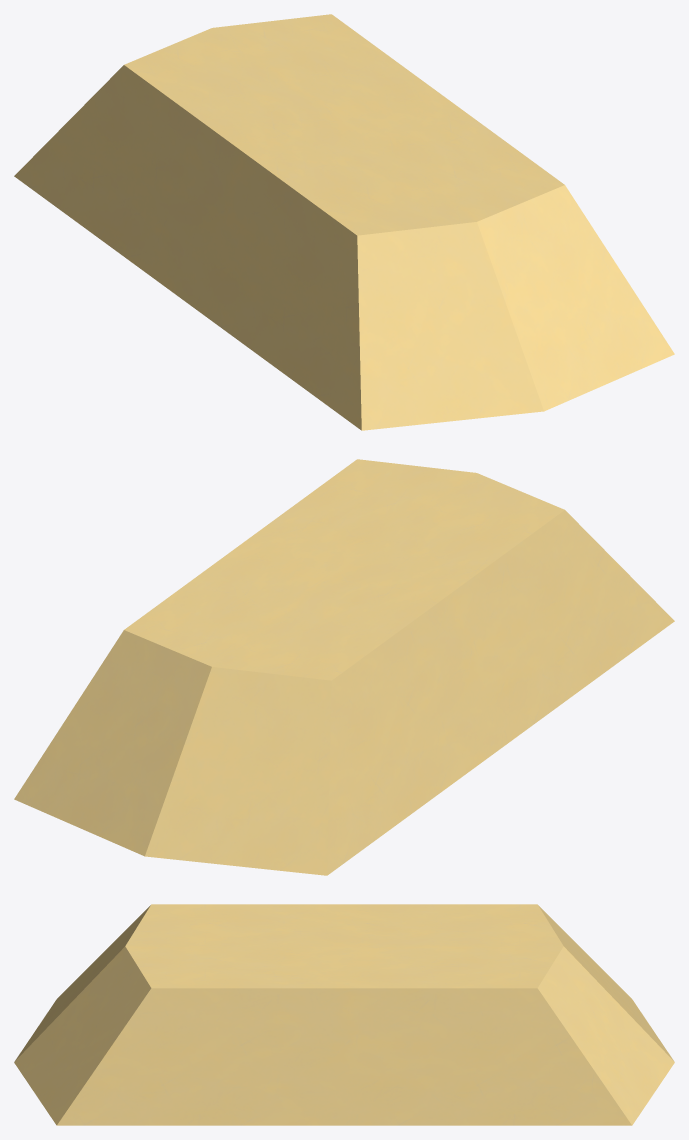
Rendered from Barra_Ouro.fbx.
3 views of the same model, one above another, from view 1: azimuth 30°, elevation 25°; view 2: azimuth 150°, elevation 25°; view 3: azimuth 270°, elevation 25° (orthographic). The views are drawn at different scales.
Visible parts, largest first — view 1: Barra de Metal; view 2: Barra de Metal; view 3: Barra de Metal.
Boxes of the visible parts, x1,y1,x2,y2 form: Barra de Metal: (14, 14, 674, 430); Barra de Metal: (14, 459, 674, 875); Barra de Metal: (14, 904, 674, 1125).
Bounding box in the file's own units: 21.32 × 9.13 × 47.09.
1 material, 1 textured.
